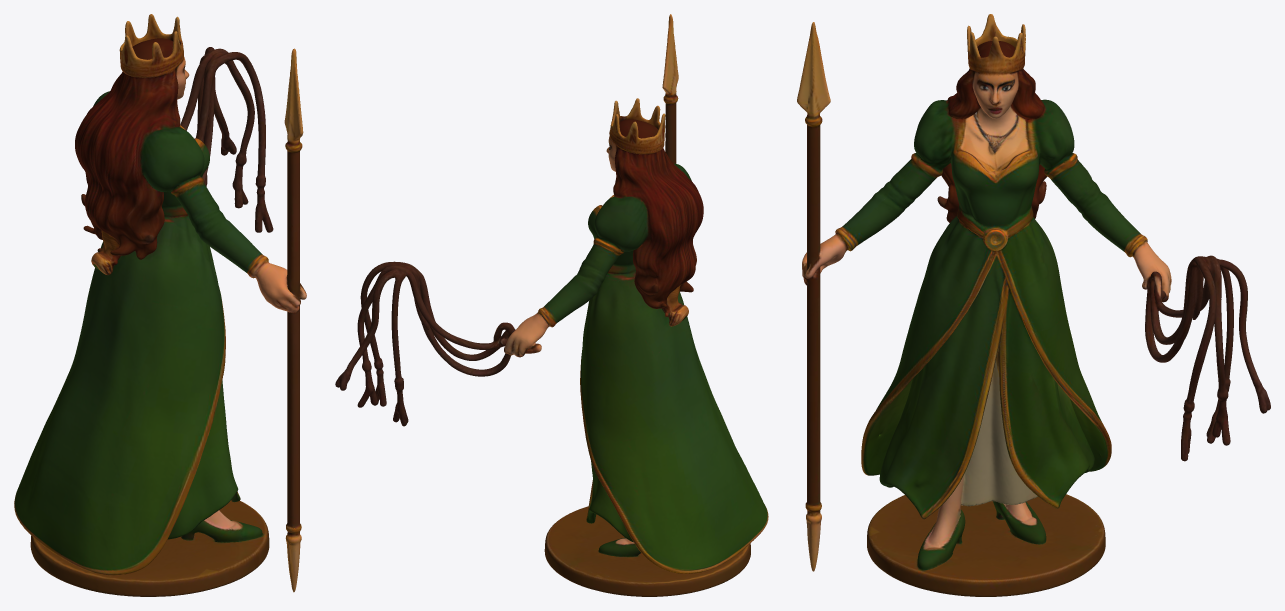
File: Ferry-Dutchess-figure.glb
The picture shows the model from 3 angles, left to right: view 1: azimuth 30°, elevation 25°; view 2: azimuth 150°, elevation 25°; view 3: azimuth 270°, elevation 25°; orthographic projection. The views are drawn at different scales.
Parts seen in each view (by area): view 1: tripo_node_41ce2015-2314-42af-92cc-e506248cf699; view 2: tripo_node_41ce2015-2314-42af-92cc-e506248cf699; view 3: tripo_node_41ce2015-2314-42af-92cc-e506248cf699.
Boxes of the visible parts, x1,y1,x2,y2 form: tripo_node_41ce2015-2314-42af-92cc-e506248cf699: (14,14,306,596); tripo_node_41ce2015-2314-42af-92cc-e506248cf699: (335,14,768,596); tripo_node_41ce2015-2314-42af-92cc-e506248cf699: (797,14,1270,596).
Size of the model in its own units: 0.6237 by 1 by 0.7739.
Materials: 1 (1 with a texture image).
